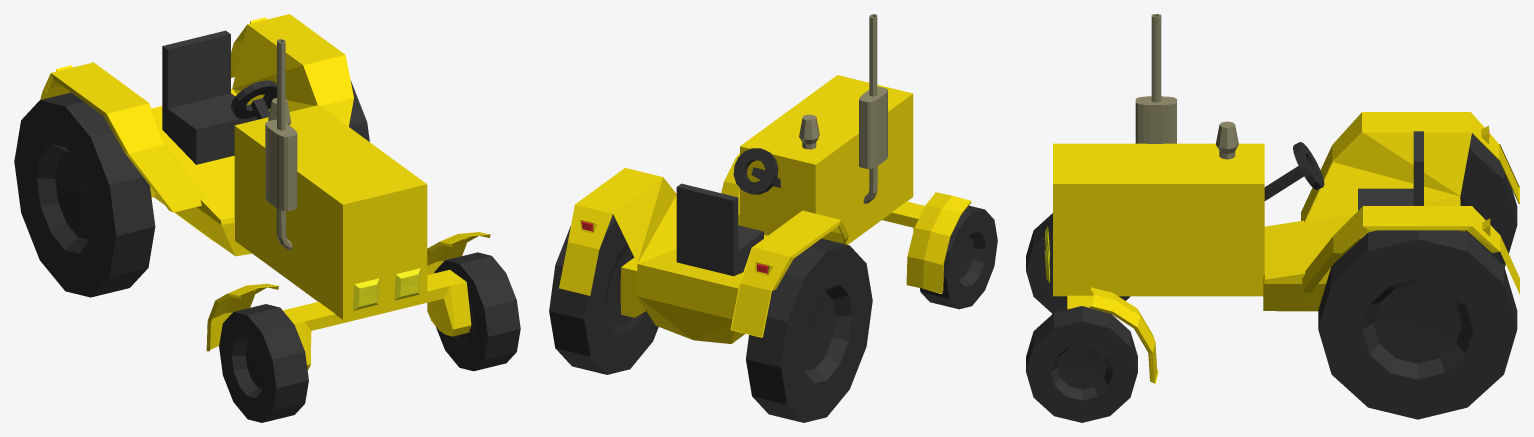
File: Tractor_simple.fbx
The picture shows the model from 3 angles, left to right: view 1: azimuth 30°, elevation 25°; view 2: azimuth 150°, elevation 25°; view 3: azimuth 270°, elevation 25°; orthographic projection. The views are drawn at different scales.
Visible parts, largest first — view 1: Cube, Tube_2, Tube_2_2, Seat, Tube_1, Pipe, YellowLight, Rotator, Tube; view 2: Cube, Tube_2, Tube, Seat, Tube_2_2, Pipe, Rotator; view 3: Cube, Tube, Tube_1, Tube_2, Pipe, Tube_2_2, Seat, Rotator.
Part boxes in pixels (left/top/right/bottom): Cube: left=40, top=14, right=490, bottom=370; Tube_2: left=14, top=92, right=155, bottom=297; Tube_2_2: left=219, top=304, right=308, bottom=422; Seat: left=162, top=30, right=257, bottom=164; Tube_1: left=434, top=252, right=520, bottom=371; Pipe: left=265, top=39, right=297, bottom=250; YellowLight: left=353, top=268, right=420, bottom=310; Rotator: left=231, top=80, right=276, bottom=119; Tube: left=349, top=80, right=369, bottom=141; Cube: left=559, top=75, right=971, bottom=343; Tube_2: left=746, top=238, right=872, bottom=422; Tube: left=549, top=214, right=658, bottom=374; Seat: left=676, top=183, right=763, bottom=276; Tube_2_2: left=920, top=205, right=997, bottom=309; Pipe: left=799, top=14, right=887, bottom=203; Rotator: left=733, top=148, right=780, bottom=194; Cube: left=1053, top=112, right=1519, bottom=383; Tube: left=1318, top=230, right=1517, bottom=419; Tube_1: left=1026, top=306, right=1137, bottom=422; Tube_2: left=1460, top=134, right=1517, bottom=267; Pipe: left=1135, top=14, right=1238, bottom=159; Tube_2_2: left=1026, top=213, right=1130, bottom=313; Seat: left=1358, top=131, right=1423, bottom=210; Rotator: left=1264, top=142, right=1324, bottom=200.
Bounding box in the file's own units: 184 × 226 × 311.
